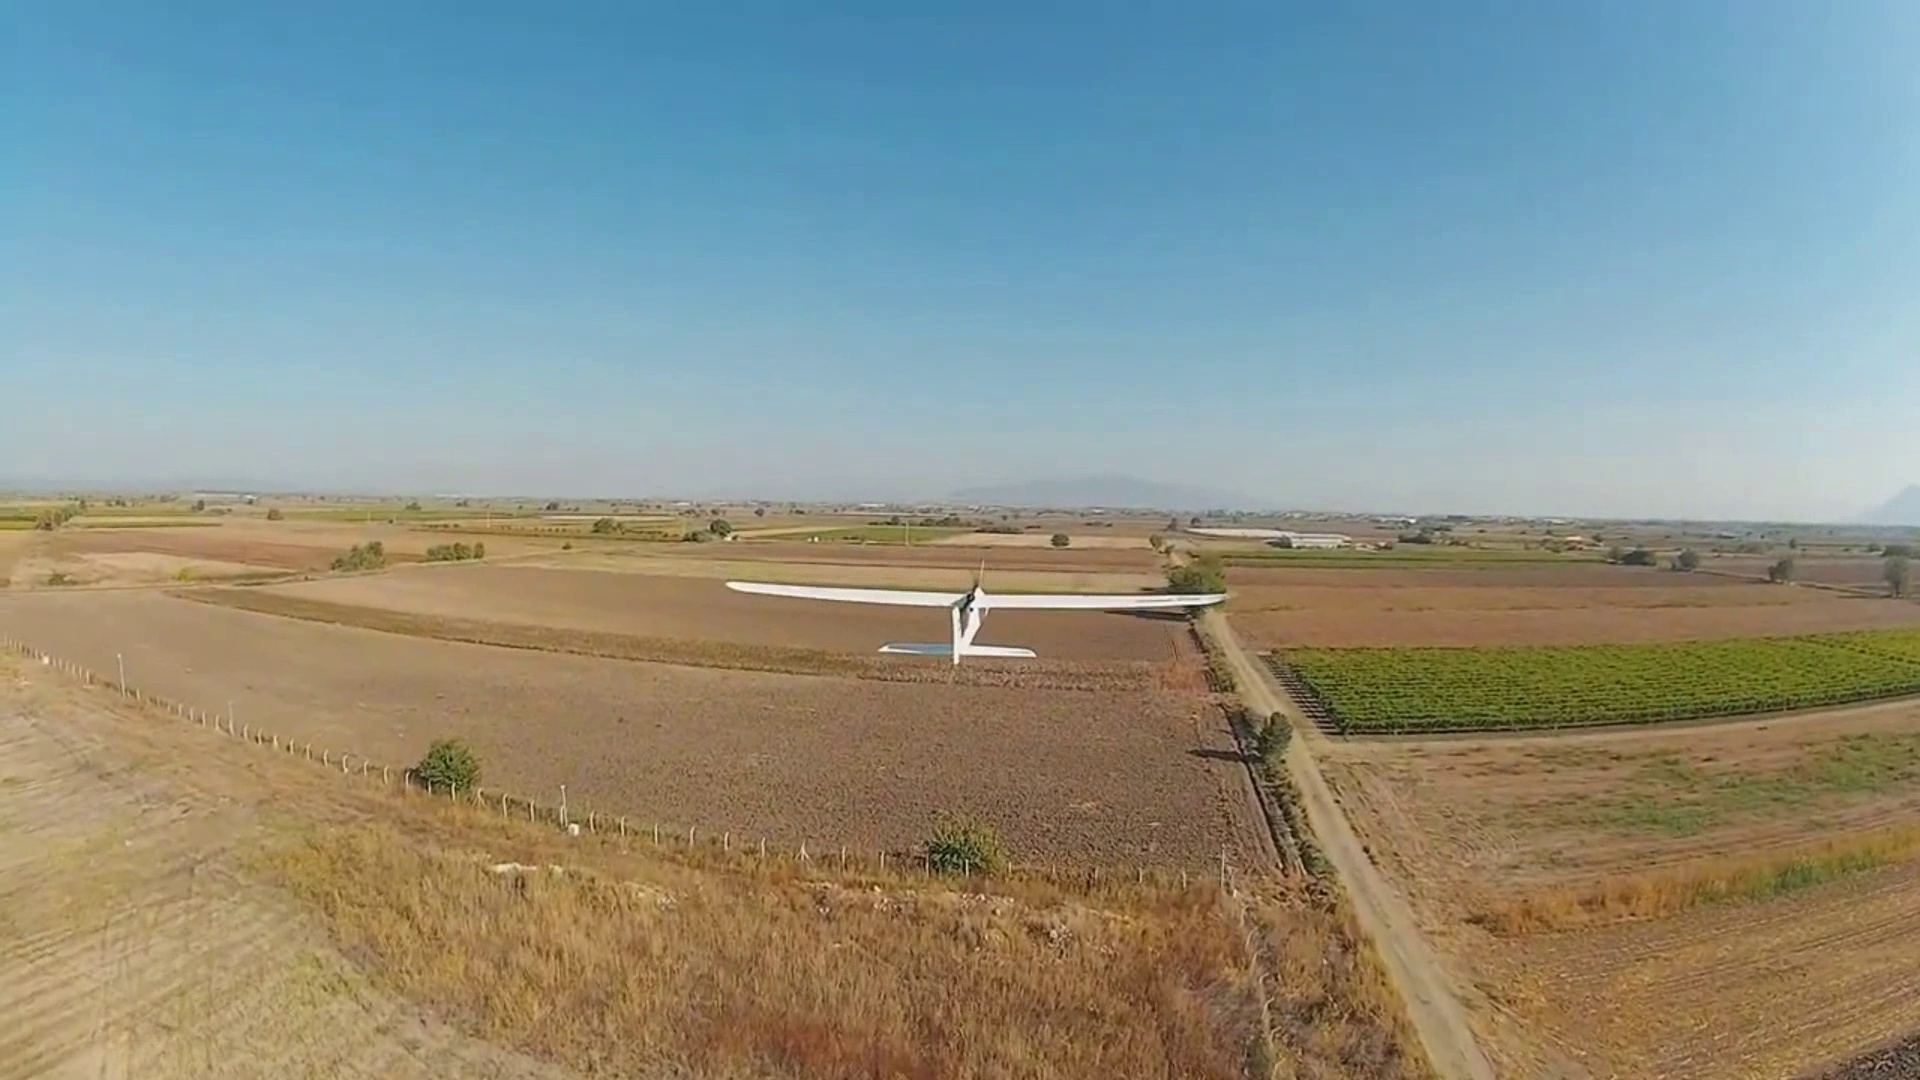airplane: (720, 564, 1231, 651)
